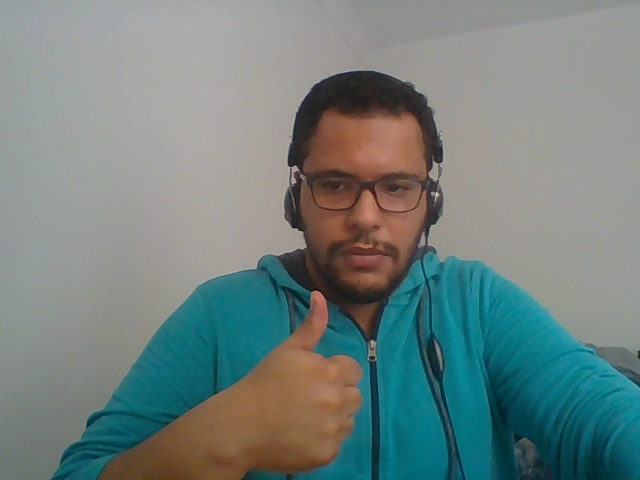ok: (210, 277, 375, 477)
